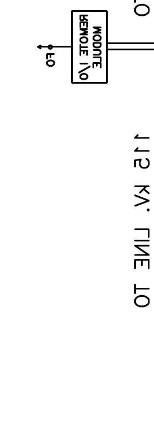remote_io_module: (71, 10, 108, 84)
